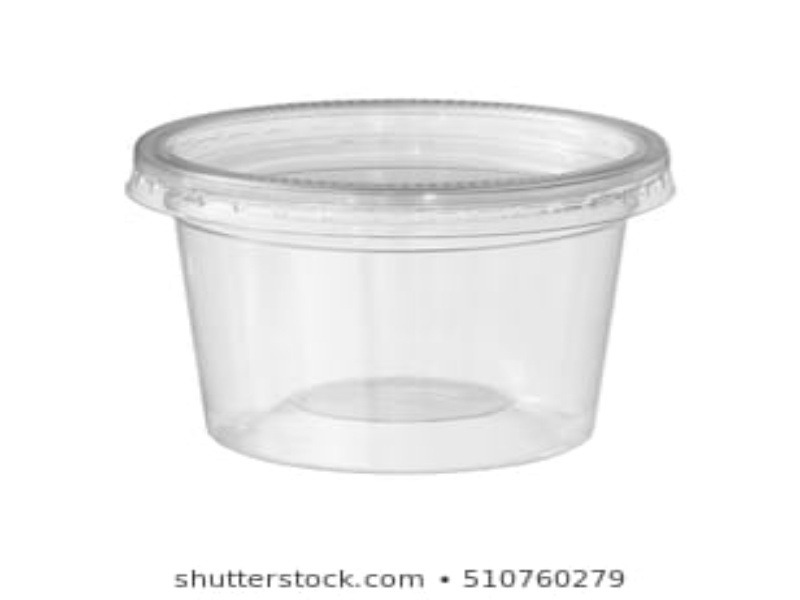plastic-container: (122, 95, 680, 472)
